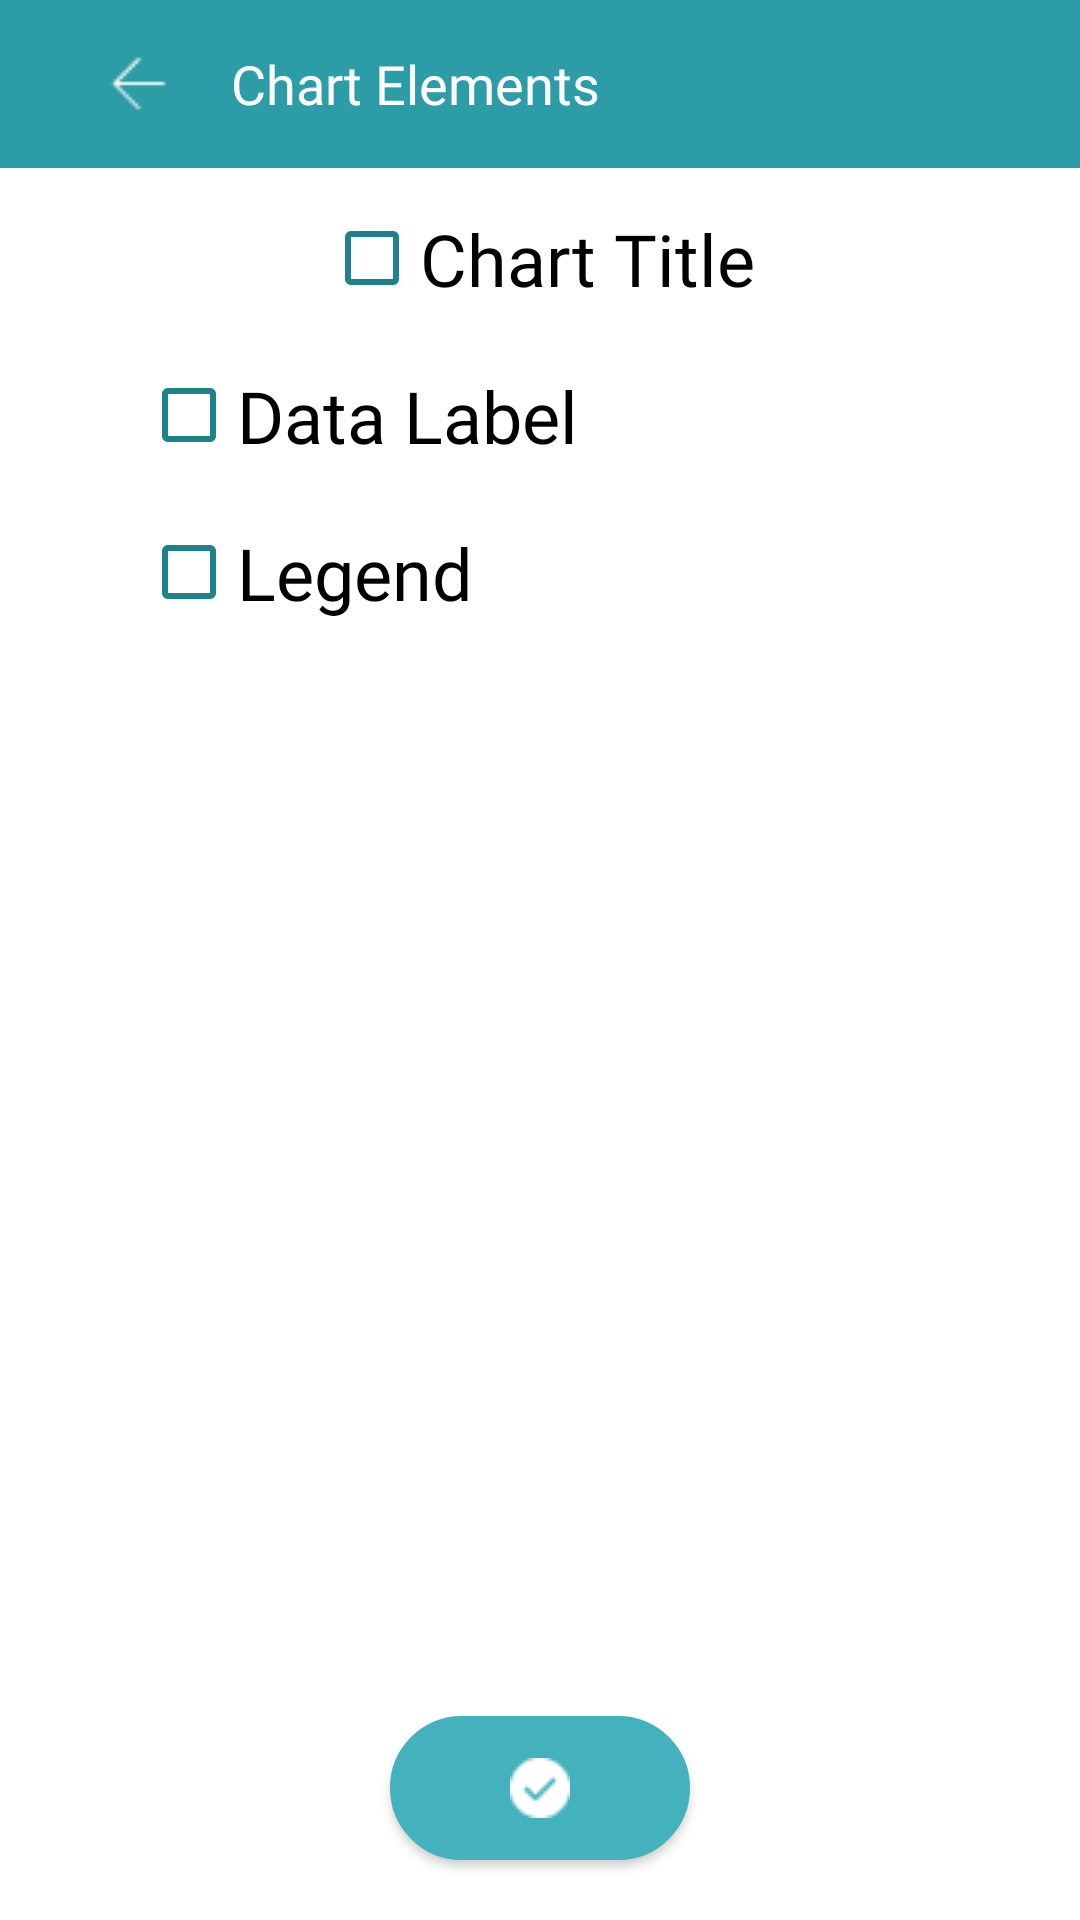

Where icons sit on this 1080px x 1920px app screen, as (x1, y1, x2, y2):
fback: (111, 57, 166, 110)
